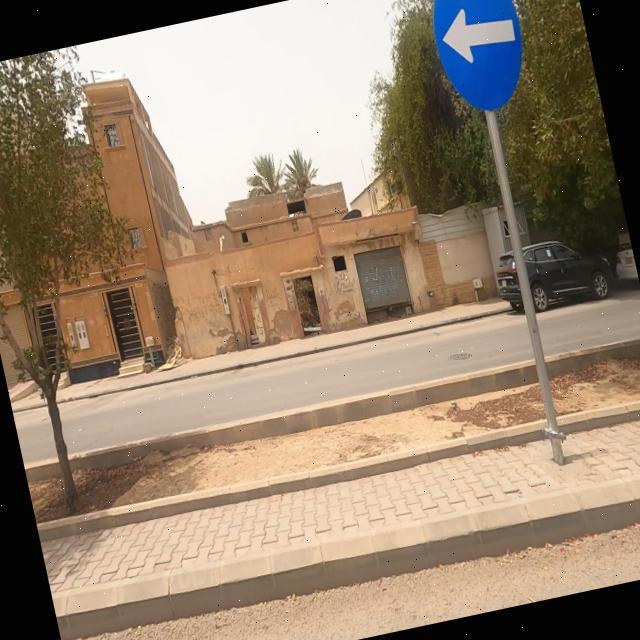Graffiti: (361, 262, 409, 307), (181, 291, 224, 328), (324, 270, 360, 303), (265, 286, 285, 312)
